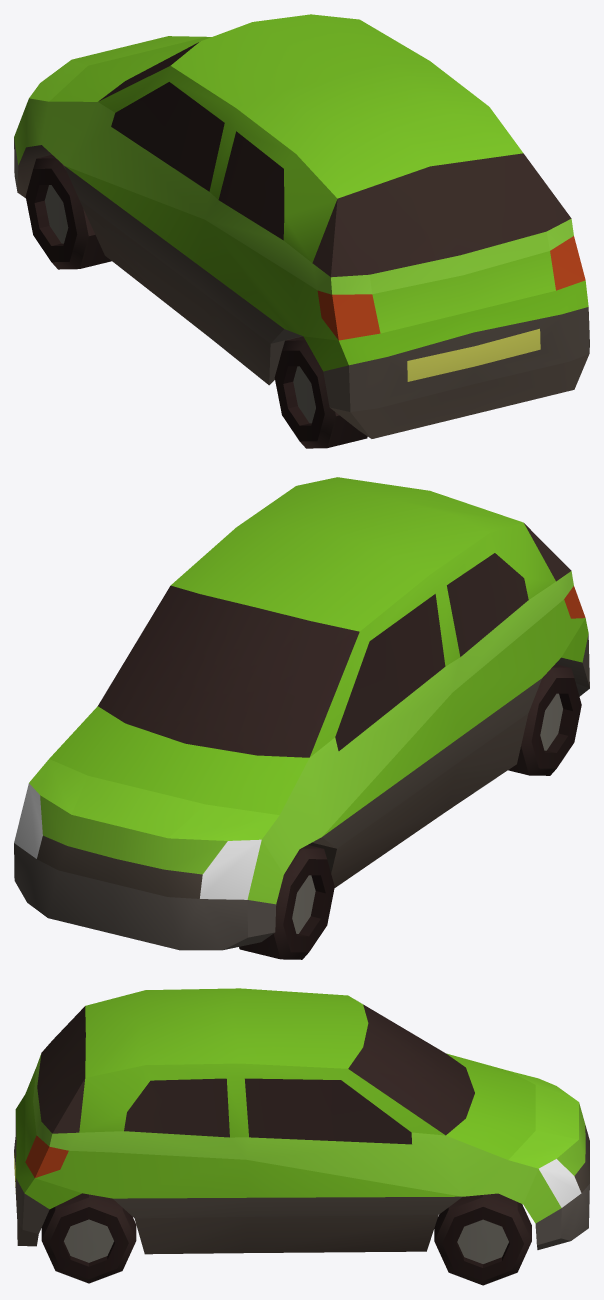
The model's file is car2.obj.
3 views of the same model, one above another, from view 1: azimuth 30°, elevation 25°; view 2: azimuth 150°, elevation 25°; view 3: azimuth 270°, elevation 25° (orthographic). The views are drawn at different scales.
Visible parts, largest first — view 1: Car_Carrosserie, Car_Base; view 2: Car_Carrosserie, Car_Base; view 3: Car_Carrosserie, Car_Base.
Boxes of the visible parts, x1=… form: Car_Carrosserie: x1=14, y1=14, x2=588, y2=371; Car_Base: x1=14, y1=42, x2=589, y2=448; Car_Carrosserie: x1=29, y1=477, x2=588, y2=904; Car_Base: x1=14, y1=523, x2=589, y2=959; Car_Carrosserie: x1=15, y1=988, x2=585, y2=1223; Car_Base: x1=14, y1=1004, x2=589, y2=1285.
Bounding box in the file's own units: 1.94 × 1.98 × 4.67.
2 materials, 2 textured.
